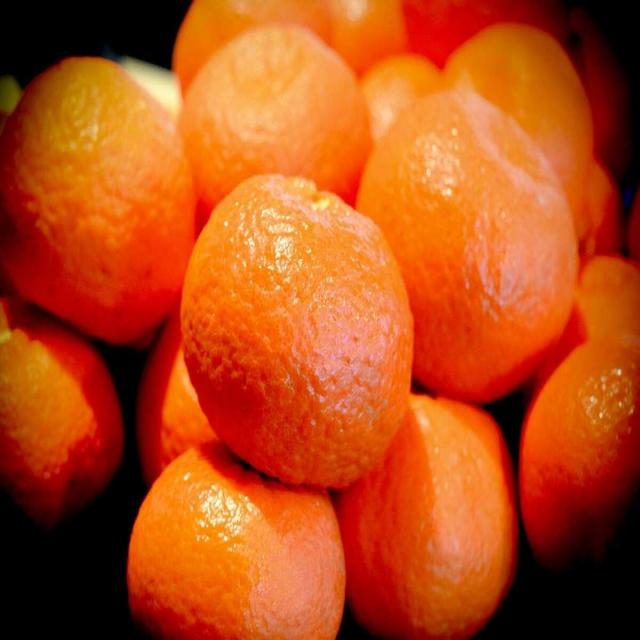10_tangerine: (174, 167, 426, 491), (344, 75, 585, 410), (0, 46, 206, 348), (110, 440, 361, 640), (330, 380, 518, 640), (174, 31, 367, 219)
